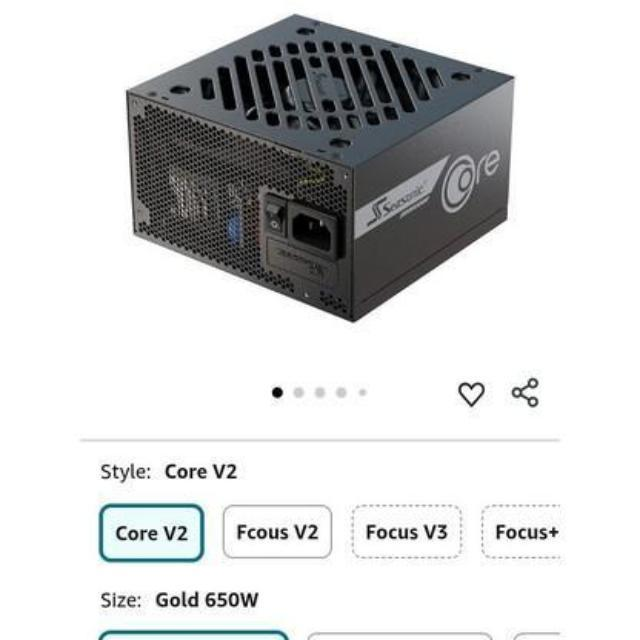PSU: (113, 11, 519, 329)
